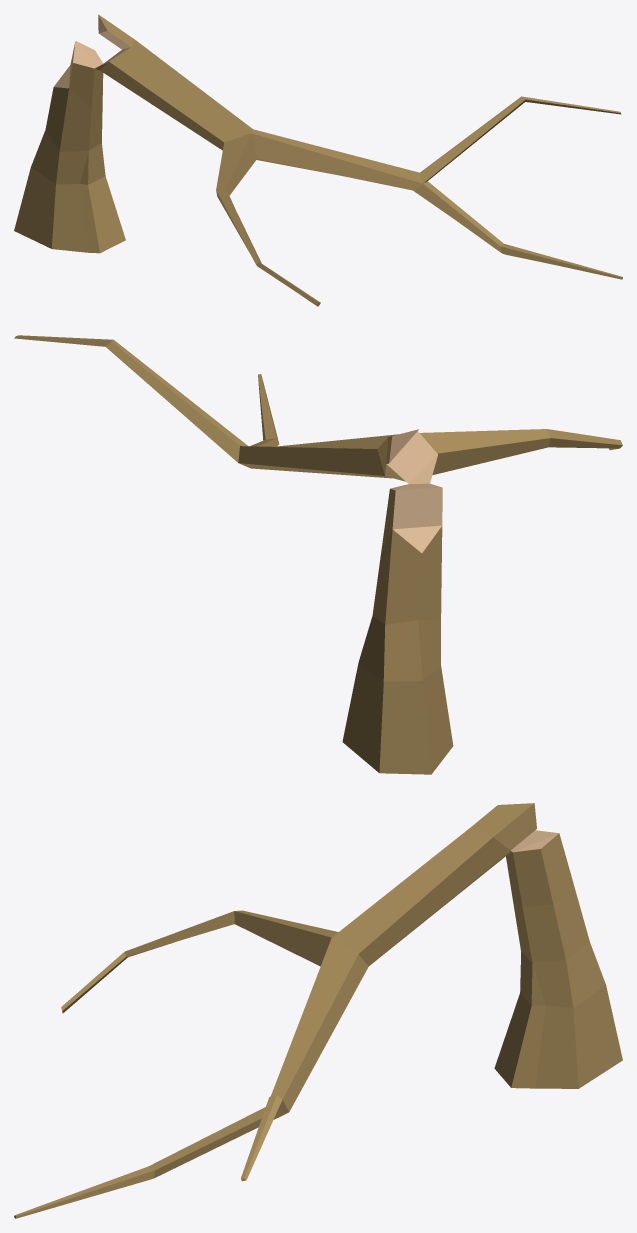
File: Oak_Tree_NoLeaves_crk_l_03.fbx
The picture shows the model from 3 angles, top to bottom: view 1: azimuth 30°, elevation 25°; view 2: azimuth 150°, elevation 25°; view 3: azimuth 270°, elevation 25°; orthographic projection. The views are drawn at different scales.
Visible parts, largest first — view 1: Oak_Tree_NoLeaves_crk_l_03; view 2: Oak_Tree_NoLeaves_crk_l_03; view 3: Oak_Tree_NoLeaves_crk_l_03.
Part boxes in pixels (x1=…): Oak_Tree_NoLeaves_crk_l_03: x1=14, y1=14, x2=622, y2=306; Oak_Tree_NoLeaves_crk_l_03: x1=14, y1=335, x2=622, y2=774; Oak_Tree_NoLeaves_crk_l_03: x1=14, y1=803, x2=622, y2=1218.
Size of the model in its own units: 624 by 289 by 582.
